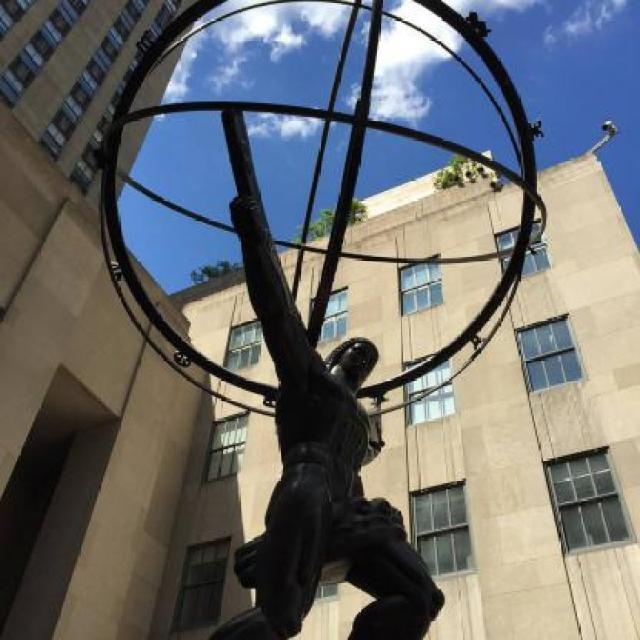obstacle: (204, 201, 448, 639)
